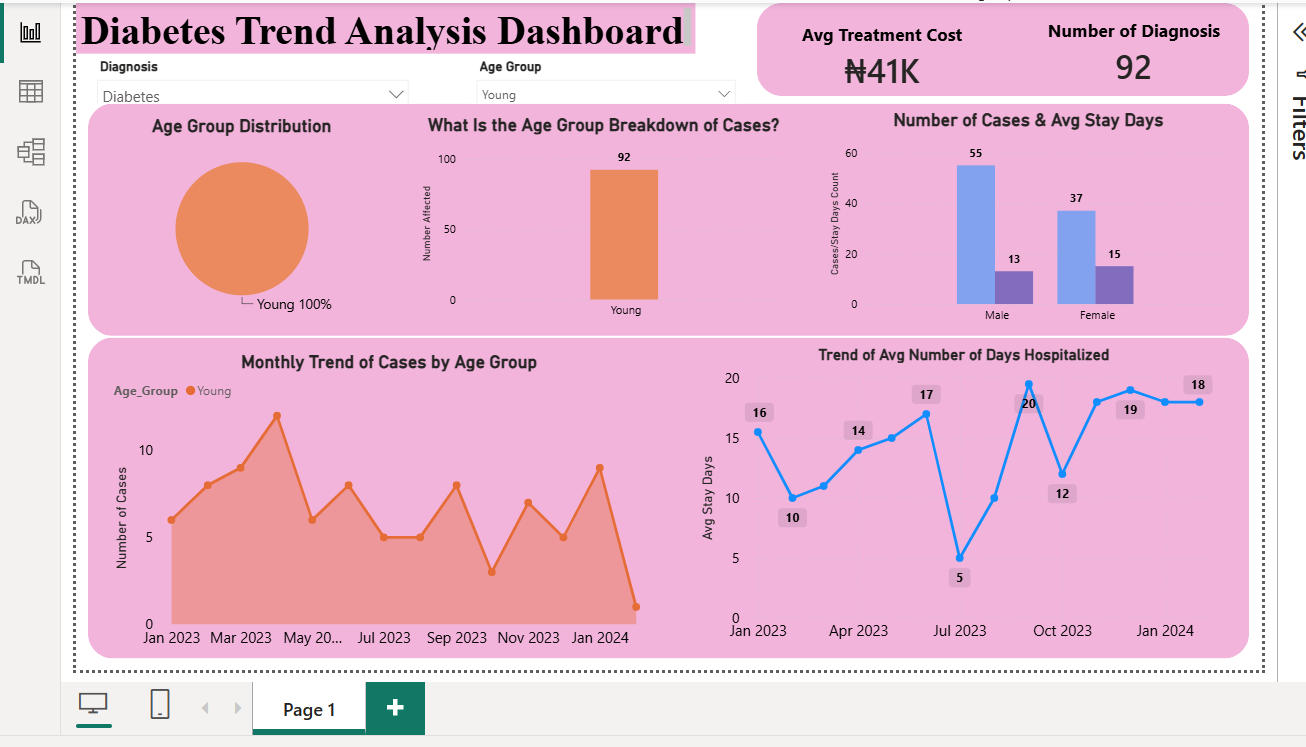

What the dashboard file says about the page in this screenshot:
{"tool":"powerbi","page":{"name":"Page 1","canvas":[1280,720],"ordinal":0},"visuals":[{"type":"group","id":"g1","title":"Background","box":[13,0,1253.3,707.6],"z":0},{"type":"shape","box":[735.2,0,531.1,100.4],"z":0,"group":"g1"},{"type":"slicer","fields":{"Values":["Diagnosis_dataset.Diagnosis"]},"box":[13,55.1,356.2,53.4],"z":0,"group":"g2"},{"type":"slicer","fields":{"Values":["Diagnosis_dataset.Age_Group"]},"box":[422.7,55.1,299.6,53.4],"z":1000,"group":"g2"},{"type":"shape","box":[13,108.5,1253.3,251],"z":1000,"group":"g1"},{"type":"lineChart","title":"Trend of Avg Number of Days Hospitalized ","fields":{"Y":["Median(Diagnosis_dataset.Length_of_Stay_Days)"],"Category":["Diagnosis_dataset.Visit_Date.Variation.Date Hierarchy.Year","Diagnosis_dataset.Visit_Date.Variation.Date Hierarchy.Month"]},"box":[668.7,369.2,579.7,330.3],"z":1000},{"type":"cardVisual","fields":{"Data":["Median(Diagnosis_dataset.Treatment_Cost)"]},"box":[722.2,8.1,296.3,100.4],"z":2000},{"type":"shape","box":[13,361.1,1253.3,346.5],"z":2000,"group":"g1"},{"type":"cardVisual","fields":{"Data":["CountNonNull(Diagnosis_dataset.Diagnosis)"]},"box":[1018.5,0,247.7,108.5],"z":3000},{"type":"areaChart","title":"Monthly Trend of Cases by Age Group","fields":{"Category":["Diagnosis_dataset.Visit_Date.Variation.Date Hierarchy.Year","Diagnosis_dataset.Visit_Date.Variation.Date Hierarchy.Month"],"Y":["CountNonNull(Diagnosis_dataset.Diagnosis)"],"Series":["Diagnosis_dataset.Age_Group"]},"box":[35.9,376.1,604.7,330.7],"z":4000},{"type":"clusteredColumnChart","title":"Number of Cases & Avg Stay Days","fields":{"Category":["Diagnosis_dataset.Gender"],"Y":["CountNonNull(Diagnosis_dataset.Diagnosis)","Median(Diagnosis_dataset.Length_of_Stay_Days)"]},"box":[808,115,440.4,239.6],"z":5000},{"type":"clusteredColumnChart","title":"What Is the Age Group Breakdown of Cases?","fields":{"Category":["Diagnosis_dataset.Age_Group"],"Y":["CountNonNull(Diagnosis_dataset.Diagnosis)"]},"box":[367.6,119.8,404.8,229.9],"z":6000},{"type":"pieChart","title":"Age Group Distribution","fields":{"Category":["Diagnosis_dataset.Age_Group"],"Y":["CountNonNull(Diagnosis_dataset.Diagnosis)"]},"box":[13,121.4,331.9,221.8],"z":7000},{"type":"textbox","box":[0,0,669,54.8],"z":8000},{"type":"group","id":"g2","title":"Slicers","box":[13,55.1,709.2,53.4],"z":9000}]}

Visuals, with their boxes on the page's 1280x720 design canvas (x1, y1, x2, y2). These are canvas units, not pixel positions in the 1306x747 screenshot, which may show the page scaled, cropped or inside an application window:
"Background" group: crop(13, 0, 1266, 708)
shape: crop(735, 0, 1266, 100)
slicer - Diagnosis_dataset.Diagnosis: crop(13, 55, 369, 108)
slicer - Diagnosis_dataset.Age_Group: crop(423, 55, 722, 108)
shape: crop(13, 108, 1266, 360)
"Trend of Avg Number of Days Hospitalized " lineChart: crop(669, 369, 1248, 700)
cardVisual - Median(Diagnosis_dataset.Treatment_Cost): crop(722, 8, 1018, 108)
shape: crop(13, 361, 1266, 708)
cardVisual - CountNonNull(Diagnosis_dataset.Diagnosis): crop(1018, 0, 1266, 108)
"Monthly Trend of Cases by Age Group" areaChart: crop(36, 376, 641, 707)
"Number of Cases & Avg Stay Days" clusteredColumnChart: crop(808, 115, 1248, 355)
"What Is the Age Group Breakdown of Cases?" clusteredColumnChart: crop(368, 120, 772, 350)
"Age Group Distribution" pieChart: crop(13, 121, 345, 343)
textbox: crop(0, 0, 669, 55)
"Slicers" group: crop(13, 55, 722, 108)
